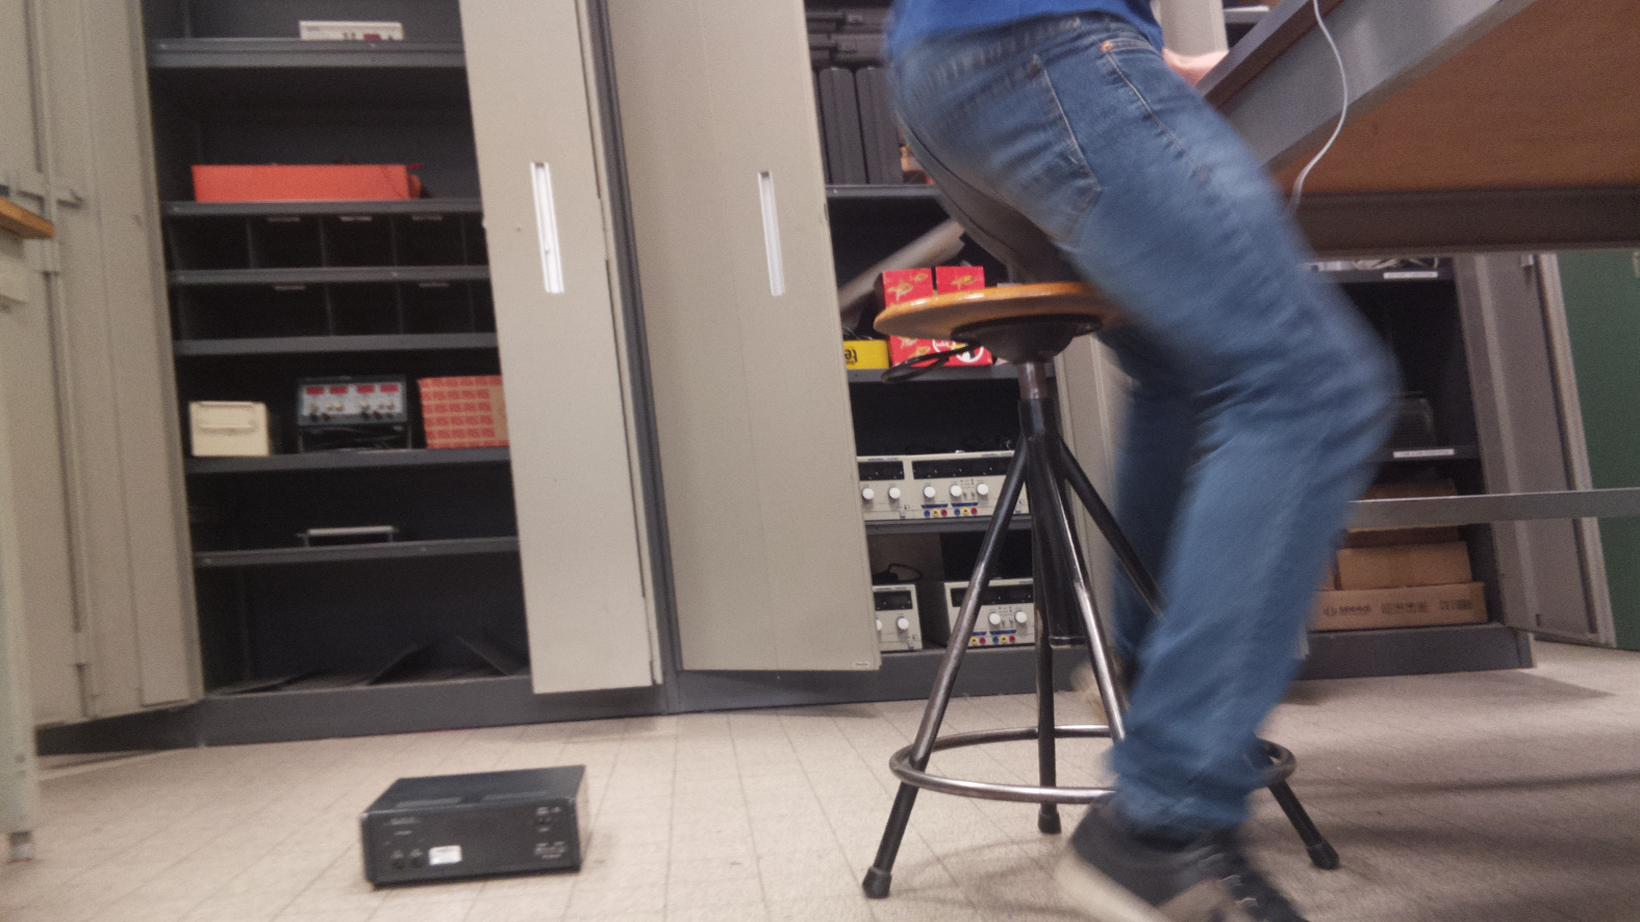medium: (354, 757, 601, 889)
